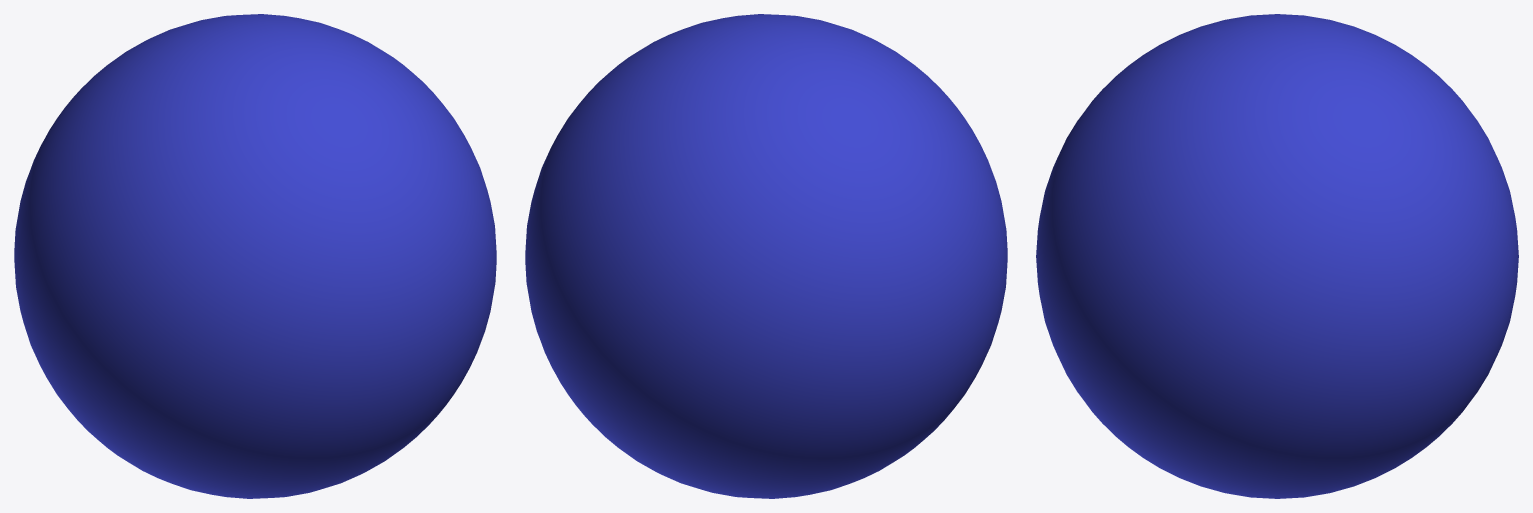
Rendered from space_bullet.fbx.
3 views of the same model, side by side, from view 1: azimuth 30°, elevation 25°; view 2: azimuth 150°, elevation 25°; view 3: azimuth 270°, elevation 25° (orthographic).
Visible parts, largest first — view 1: root; view 2: root; view 3: root.
Boxes of the visible parts, bbox=[...] form: root: bbox=[14, 14, 496, 498]; root: bbox=[525, 14, 1007, 498]; root: bbox=[1036, 14, 1518, 498].
Size of the model in its own units: 0.0378 by 0.038 by 0.0378.
